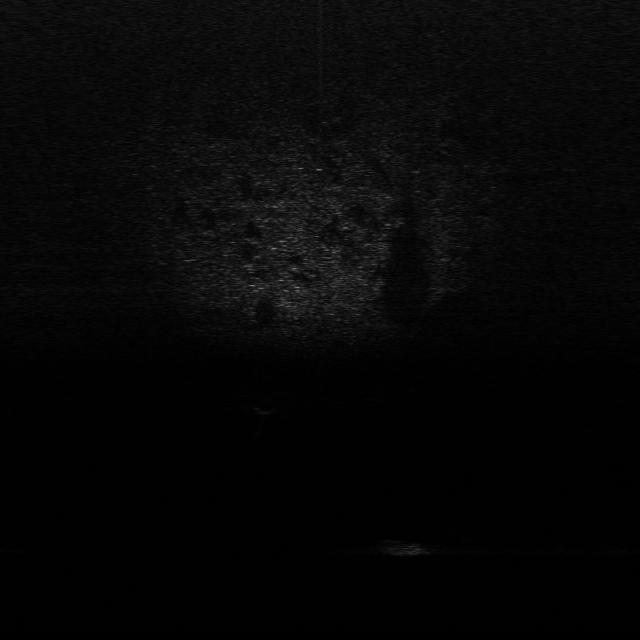ball: (248, 396, 283, 416)
metal bucket: (379, 536, 433, 560)
